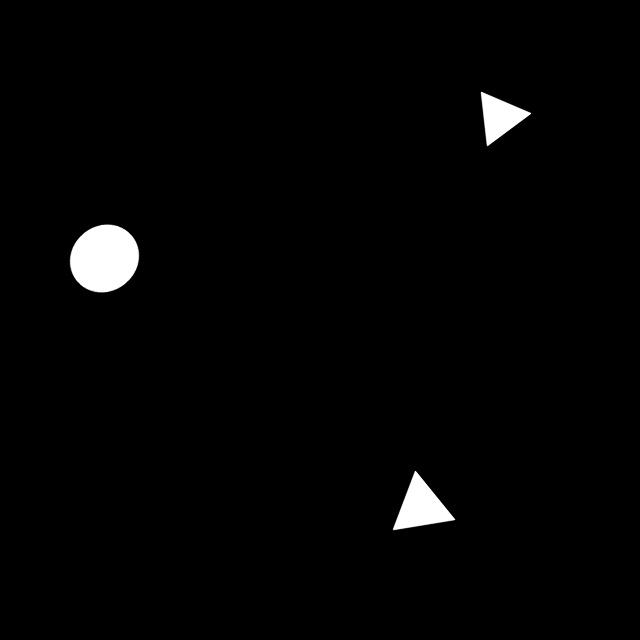Circle: (59, 216, 147, 305)
Triangle: (380, 458, 468, 549), (466, 76, 542, 161)
